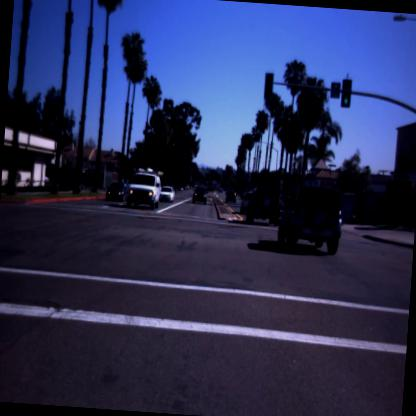trafficlight: (260, 68, 277, 106), (340, 76, 356, 113)
